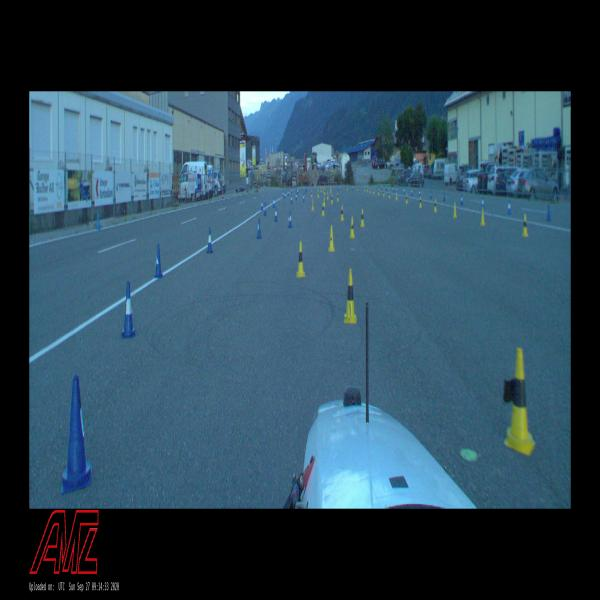blue_cone: (61, 373, 93, 494), (121, 281, 136, 339), (154, 243, 164, 279), (206, 227, 214, 254), (256, 218, 262, 240), (546, 203, 552, 222), (288, 210, 292, 228), (274, 206, 278, 222), (481, 195, 484, 211), (508, 200, 511, 215), (264, 203, 267, 216), (461, 194, 464, 205), (418, 187, 421, 198), (290, 194, 293, 204), (273, 195, 275, 209), (261, 198, 263, 212), (410, 187, 413, 196), (430, 189, 432, 201), (443, 191, 445, 202), (303, 193, 305, 203), (296, 192, 298, 201), (403, 187, 405, 195), (296, 186, 298, 194), (288, 188, 289, 197), (283, 190, 284, 198), (291, 186, 292, 194)
yellow_cone: (504, 346, 536, 456), (344, 268, 357, 324), (296, 240, 306, 279), (328, 225, 335, 252), (349, 215, 355, 240), (522, 213, 528, 237), (360, 208, 365, 228), (340, 204, 345, 223), (480, 206, 485, 225), (453, 202, 457, 219), (321, 202, 325, 217), (434, 198, 437, 213), (419, 195, 422, 208), (405, 193, 408, 204), (336, 192, 339, 202), (395, 192, 398, 202), (388, 190, 391, 199), (372, 186, 375, 194), (312, 199, 314, 211), (366, 186, 369, 193), (331, 194, 333, 204), (383, 188, 385, 198), (330, 184, 332, 194), (378, 187, 380, 196), (327, 191, 329, 200), (324, 187, 326, 195), (369, 186, 371, 194), (364, 184, 366, 192), (346, 184, 348, 191), (318, 189, 319, 199), (311, 189, 312, 198), (357, 185, 358, 191)
